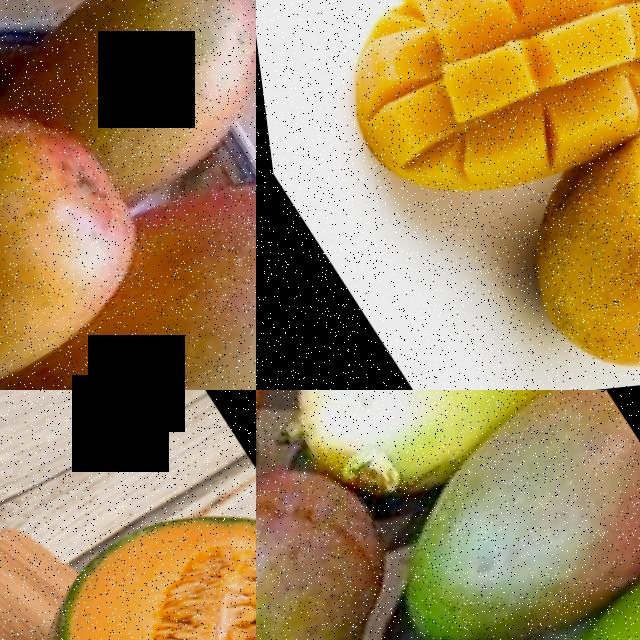mango: (317, 390, 640, 640), (0, 50, 180, 390), (0, 0, 256, 230), (0, 186, 256, 390), (469, 86, 640, 390), (256, 390, 597, 523), (256, 417, 423, 640), (430, 552, 640, 640)
melon: (0, 460, 256, 640)
